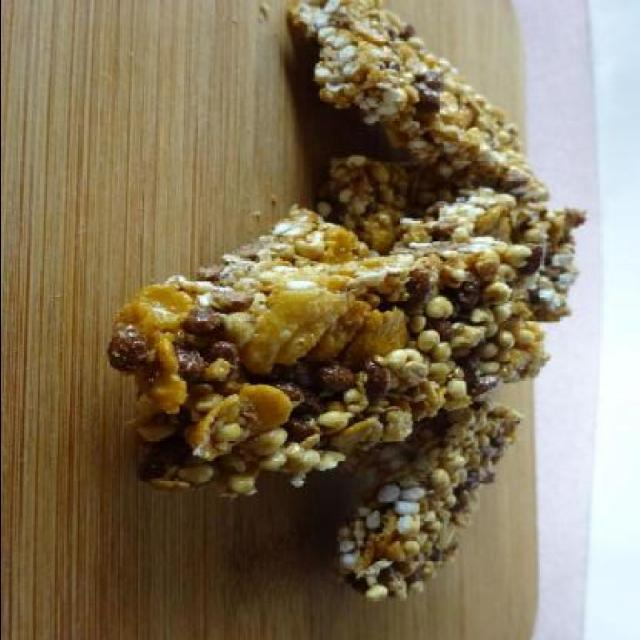Cereal bar packaged: (115, 232, 542, 492), (296, 3, 548, 206), (321, 403, 530, 606)
